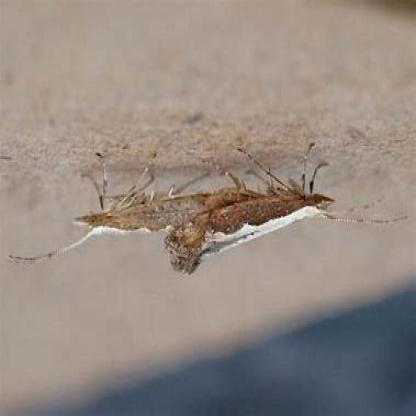plutella: (9, 120, 341, 276)
